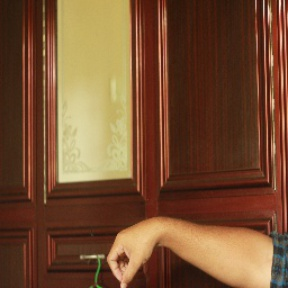O: (105, 221, 164, 282)
